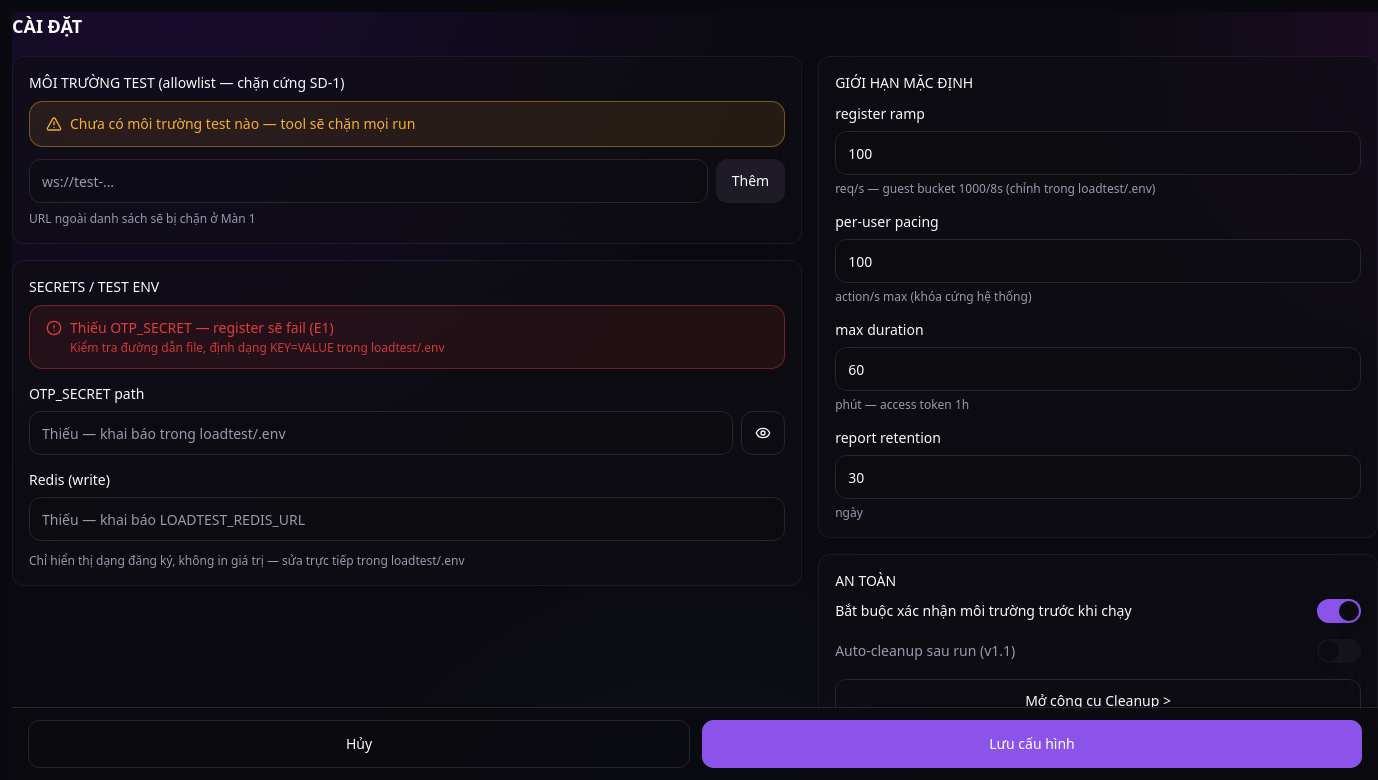
Test case: SettingsPage — guard khi nhập production URL › gõ production URL (api.mayogu.com) → hiện banner cảnh báo
Type "https://api.mayogu.com" into the field with placeholder "ws://test-…" at (368, 181), box [29,159,708,203]
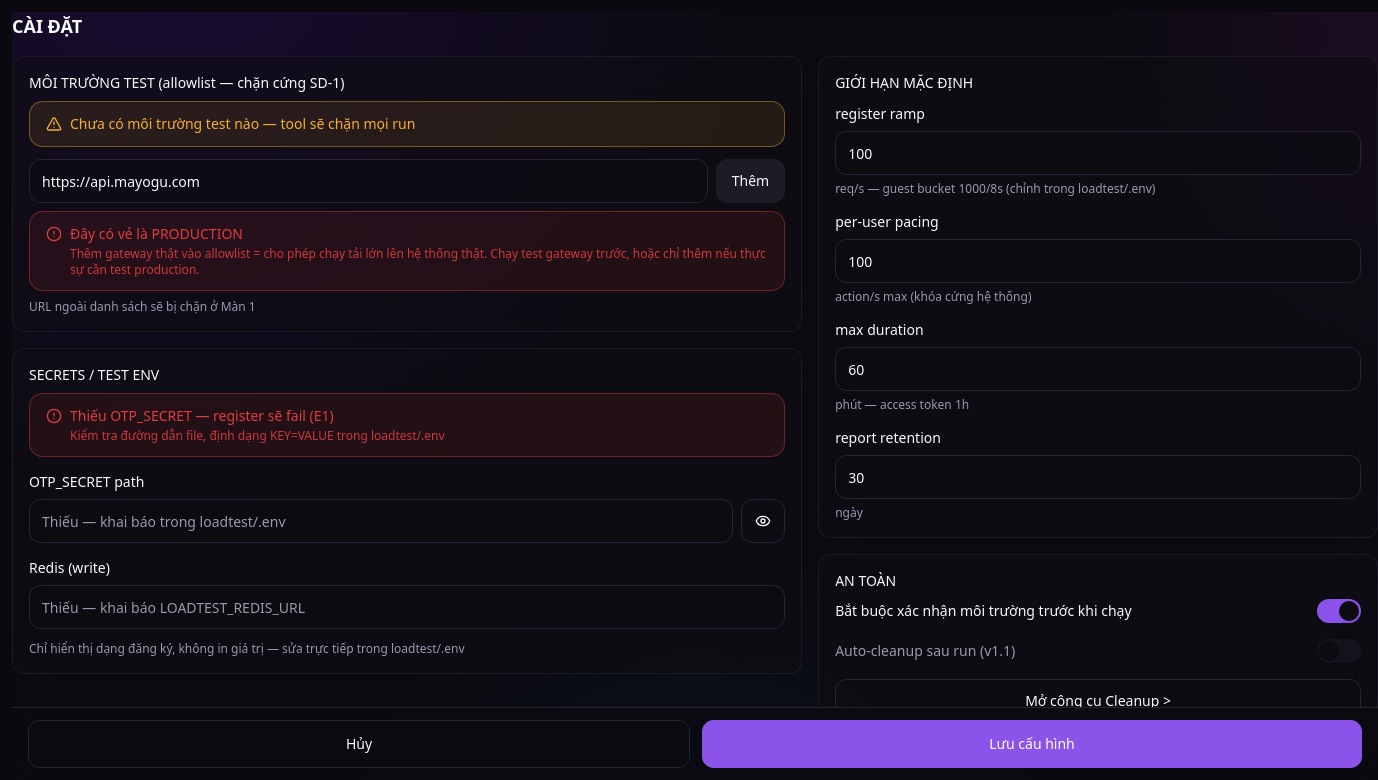
expect the text "Đây có vẻ là PRODUCTION" is shown: met, box [70,224,243,243]
